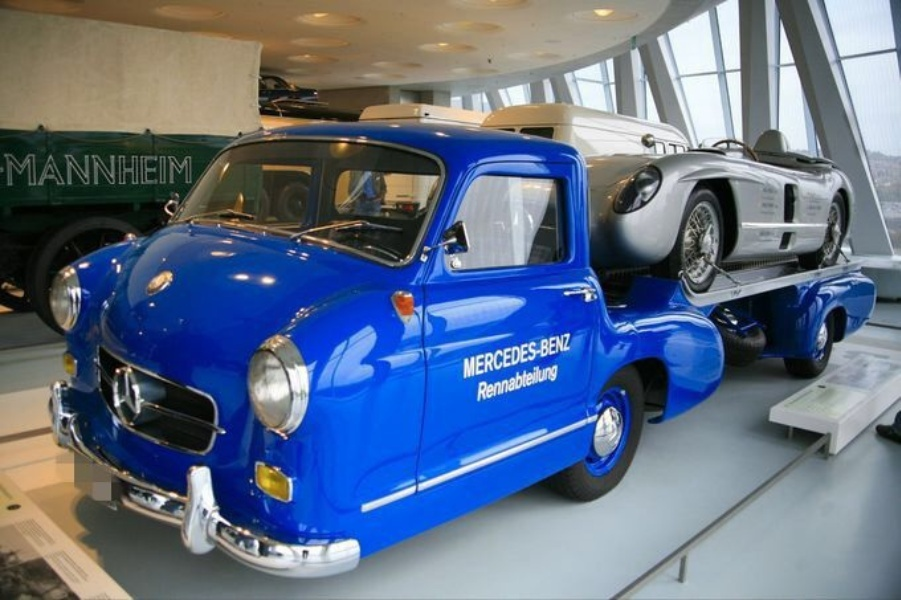text: (465, 332, 480, 381), (481, 332, 496, 381), (497, 332, 512, 381), (513, 332, 528, 381), (529, 332, 544, 381), (545, 332, 560, 381), (481, 362, 496, 404), (497, 362, 512, 404), (513, 362, 528, 404), (529, 362, 544, 404), (177, 153, 193, 189), (17, 153, 32, 189), (33, 153, 48, 189), (49, 153, 64, 189), (65, 153, 80, 189), (81, 153, 96, 189), (97, 153, 112, 189), (113, 153, 128, 189), (129, 153, 144, 189), (145, 153, 160, 189), (161, 153, 176, 189), (561, 332, 572, 381), (545, 362, 557, 404), (3, 153, 16, 189), (462, 332, 464, 381), (478, 362, 480, 404)
